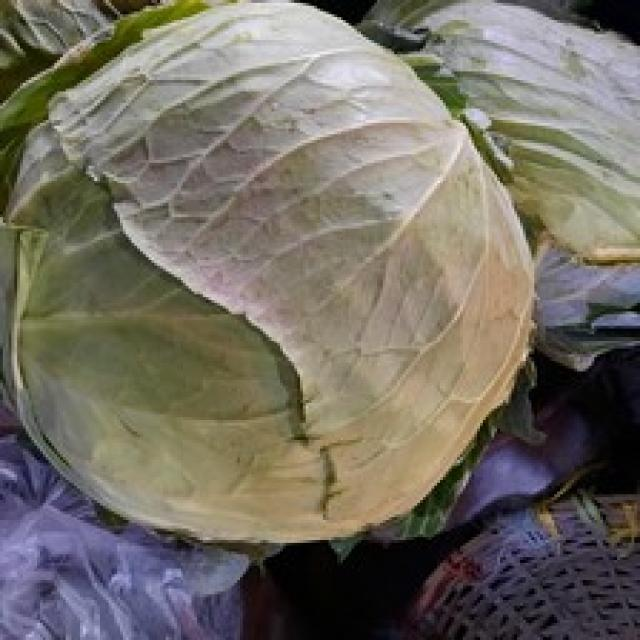Cabbage: (0, 0, 540, 549)
